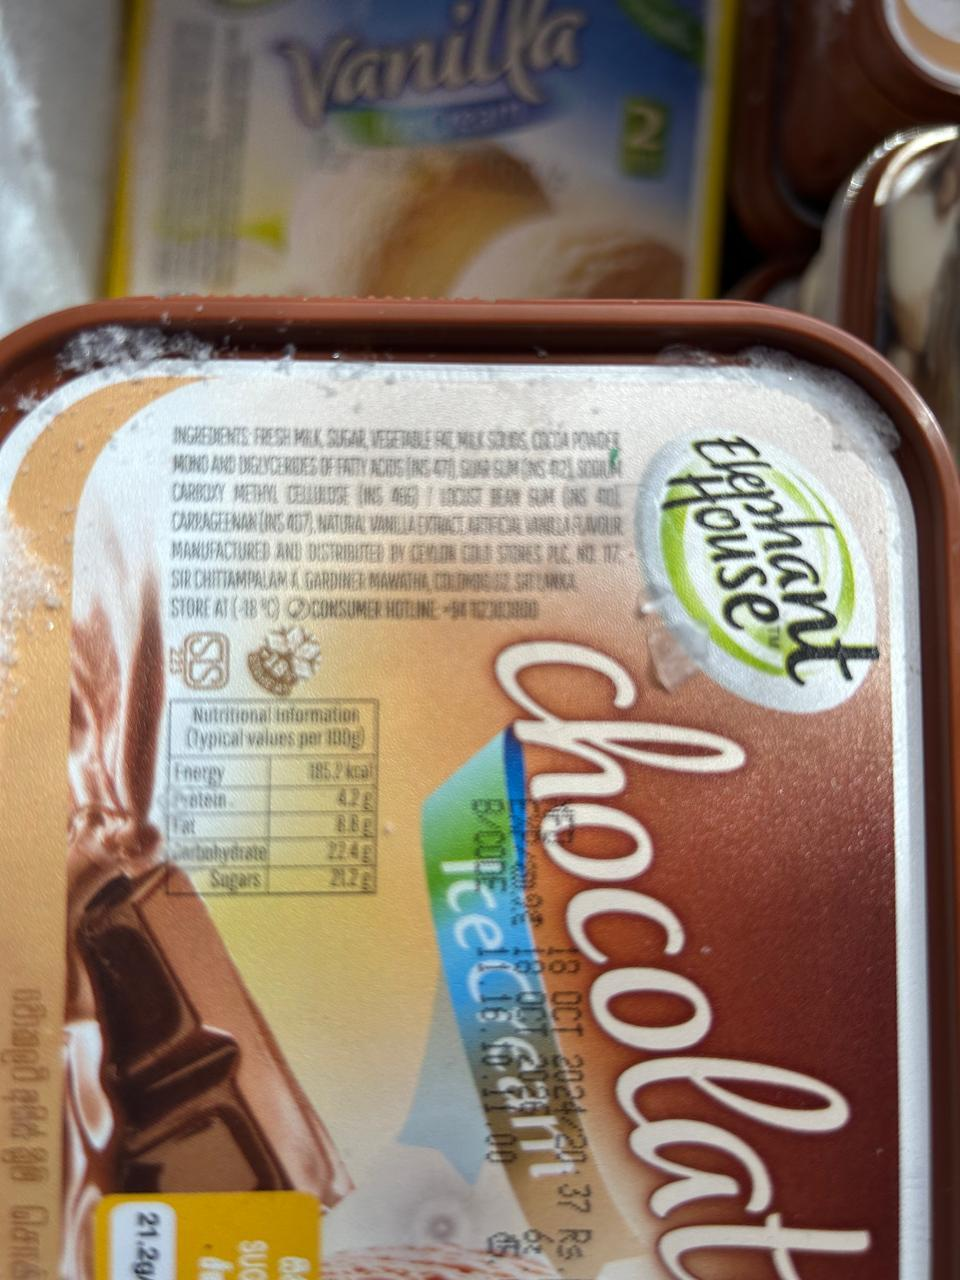ingredients: (160, 388, 657, 672)
